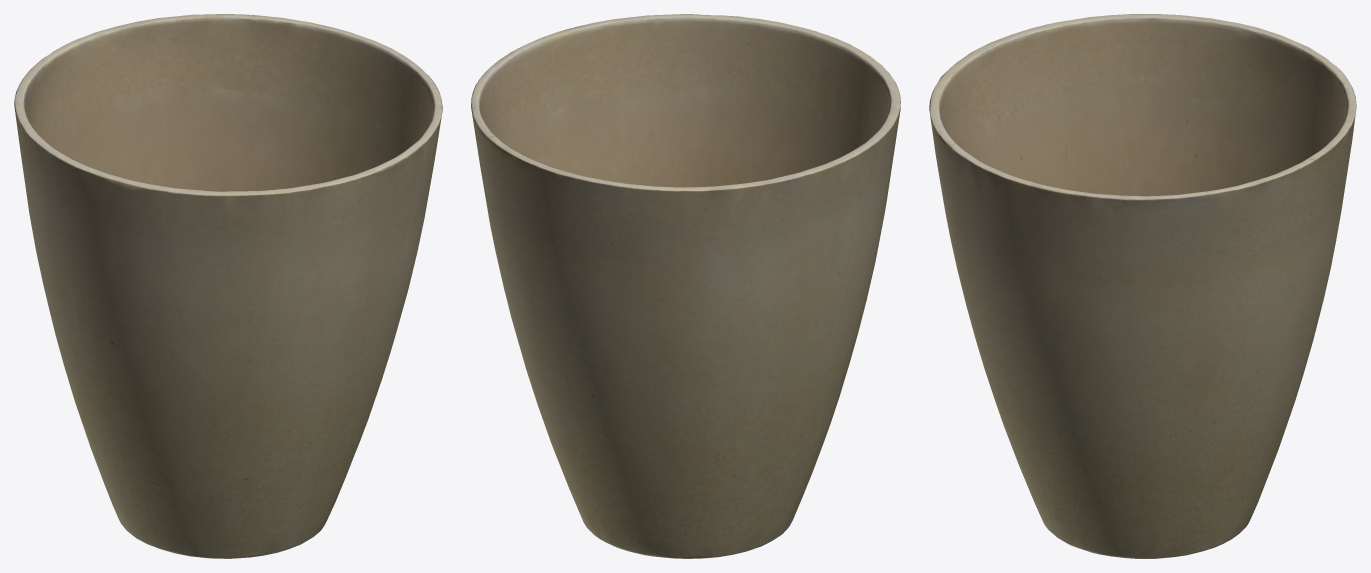
Rendered from Ecoforms_Plant_Container_URN_SAN.glb.
3 renders of one model, left to right at view 1: azimuth 30°, elevation 25°; view 2: azimuth 150°, elevation 25°; view 3: azimuth 270°, elevation 25°, orthographic.
Parts seen in each view (by area): view 1: Ecoforms_Plant_Container_URN_SAN; view 2: Ecoforms_Plant_Container_URN_SAN; view 3: Ecoforms_Plant_Container_URN_SAN.
Part boxes in pixels (x1,y1,x2,y2): Ecoforms_Plant_Container_URN_SAN: [14, 14, 442, 558]; Ecoforms_Plant_Container_URN_SAN: [471, 14, 900, 558]; Ecoforms_Plant_Container_URN_SAN: [929, 14, 1356, 558].
Bounding box in the file's own units: 0.1492 × 0.1594 × 0.1487.
1 material, 1 textured.
